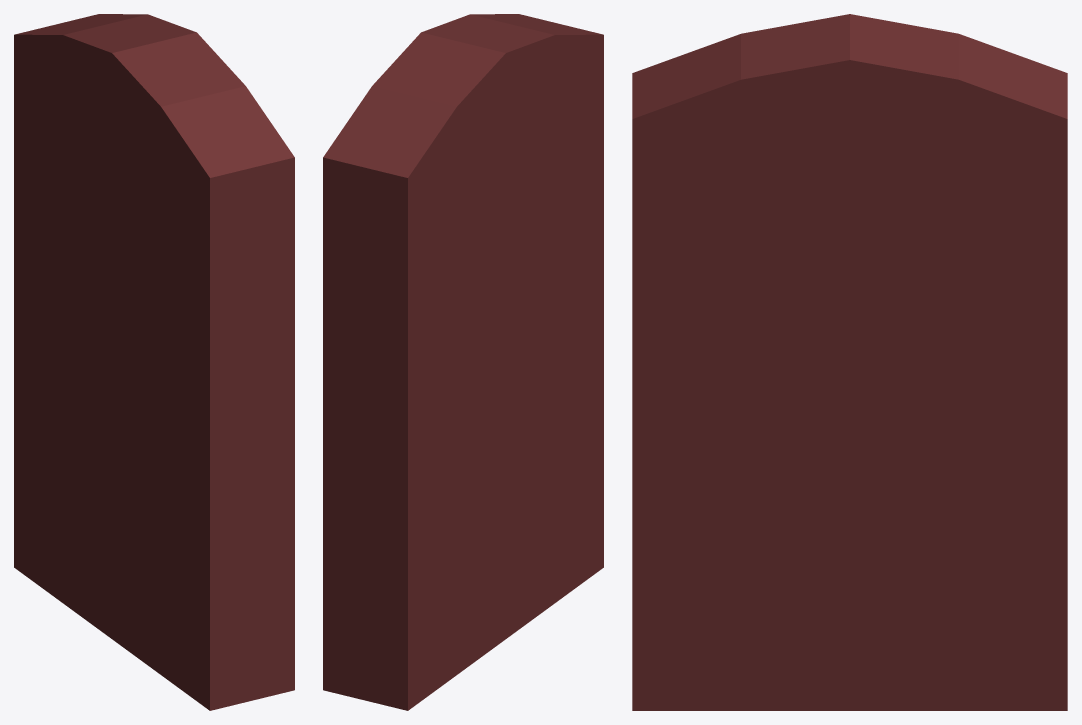
The model's file is door.glb.
3 renders of one model, left to right at view 1: azimuth 30°, elevation 25°; view 2: azimuth 150°, elevation 25°; view 3: azimuth 270°, elevation 25°, orthographic. The views are drawn at different scales.
Parts seen in each view (by area): view 1: Cube.135; view 2: Cube.135; view 3: Cube.135.
Part boxes in pixels (x1=…): Cube.135: x1=14, y1=14, x2=294, y2=710; Cube.135: x1=323, y1=14, x2=603, y2=710; Cube.135: x1=632, y1=14, x2=1067, y2=710.
Bounding box in the file's own units: 0.5 × 3.3 × 2.
